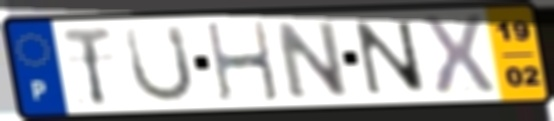H: (202, 19, 284, 105)
N: (270, 18, 352, 102), (350, 19, 431, 97)
T: (59, 24, 115, 109)
U: (121, 22, 198, 105)
X: (417, 13, 500, 99)
